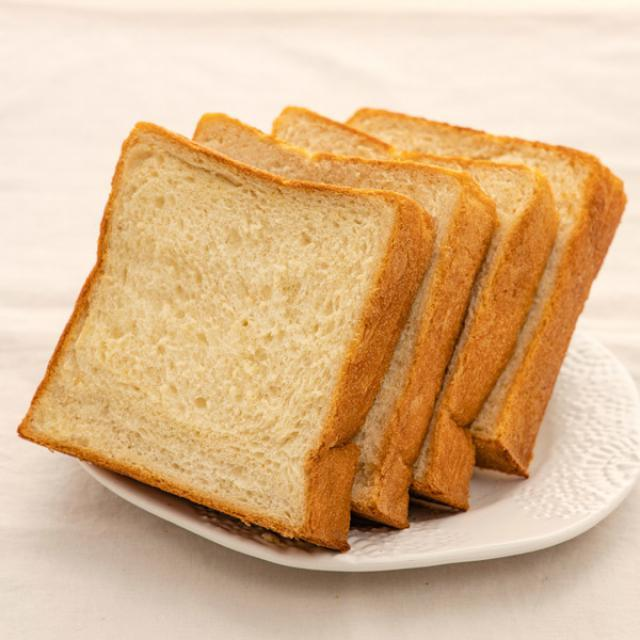Bread: (18, 109, 621, 543)
